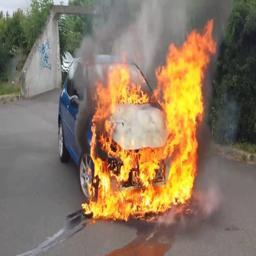fire: (80, 18, 219, 222)
